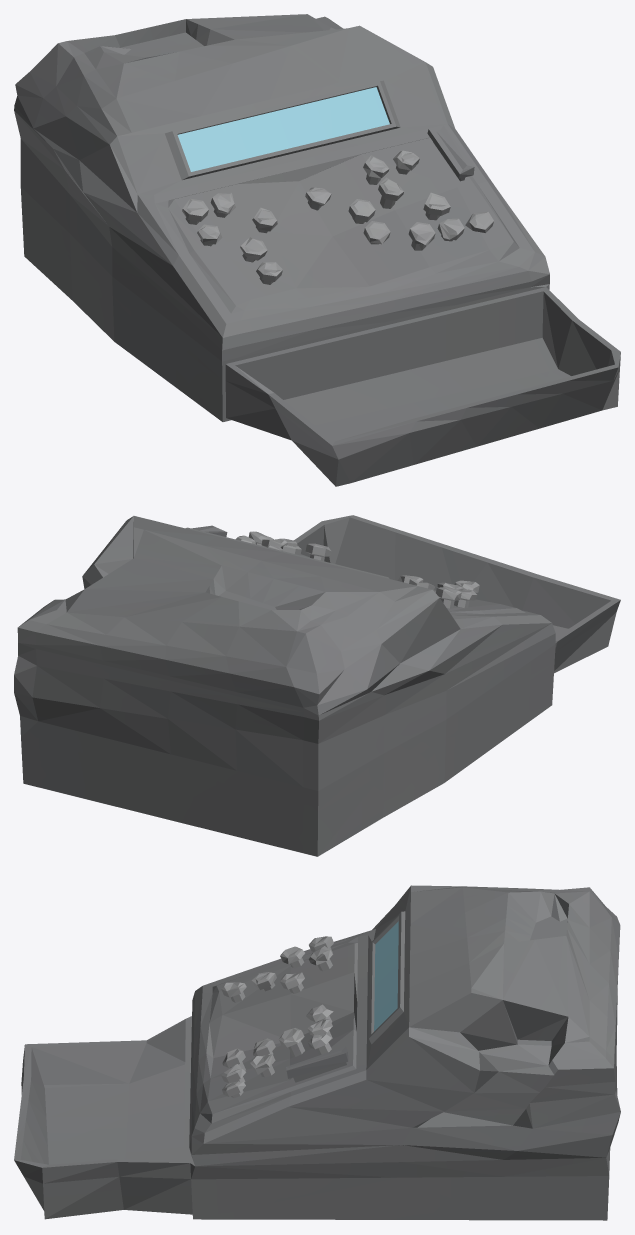
File: cash_register.obj
3 renders of one model, top to bottom at view 1: azimuth 30°, elevation 25°; view 2: azimuth 150°, elevation 25°; view 3: azimuth 270°, elevation 25°, orthographic. The views are drawn at different scales.
Visible parts, largest first — view 1: cash_register_Material; view 2: cash_register_Material; view 3: cash_register_Material.
Part boxes in pixels (left/top/right/bottom): cash_register_Material: left=14, top=14, right=620, bottom=486; cash_register_Material: left=14, top=515, right=620, bottom=856; cash_register_Material: left=14, top=885, right=620, bottom=1220.
Size of the model in its own units: 0.2696 by 0.1743 by 0.441.
